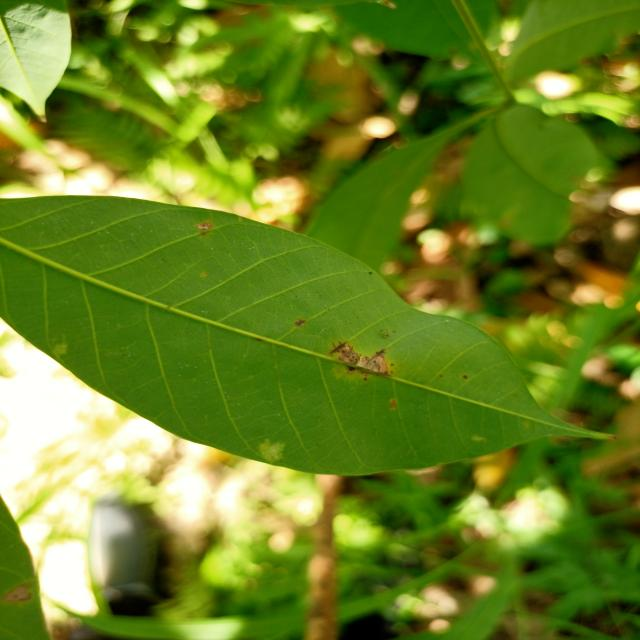Colletotrichum: (463, 374, 468, 378), (364, 378, 367, 380)
Corynespora: (330, 342, 348, 354), (371, 348, 387, 360)
Leaf-Blight: (338, 344, 387, 374)
